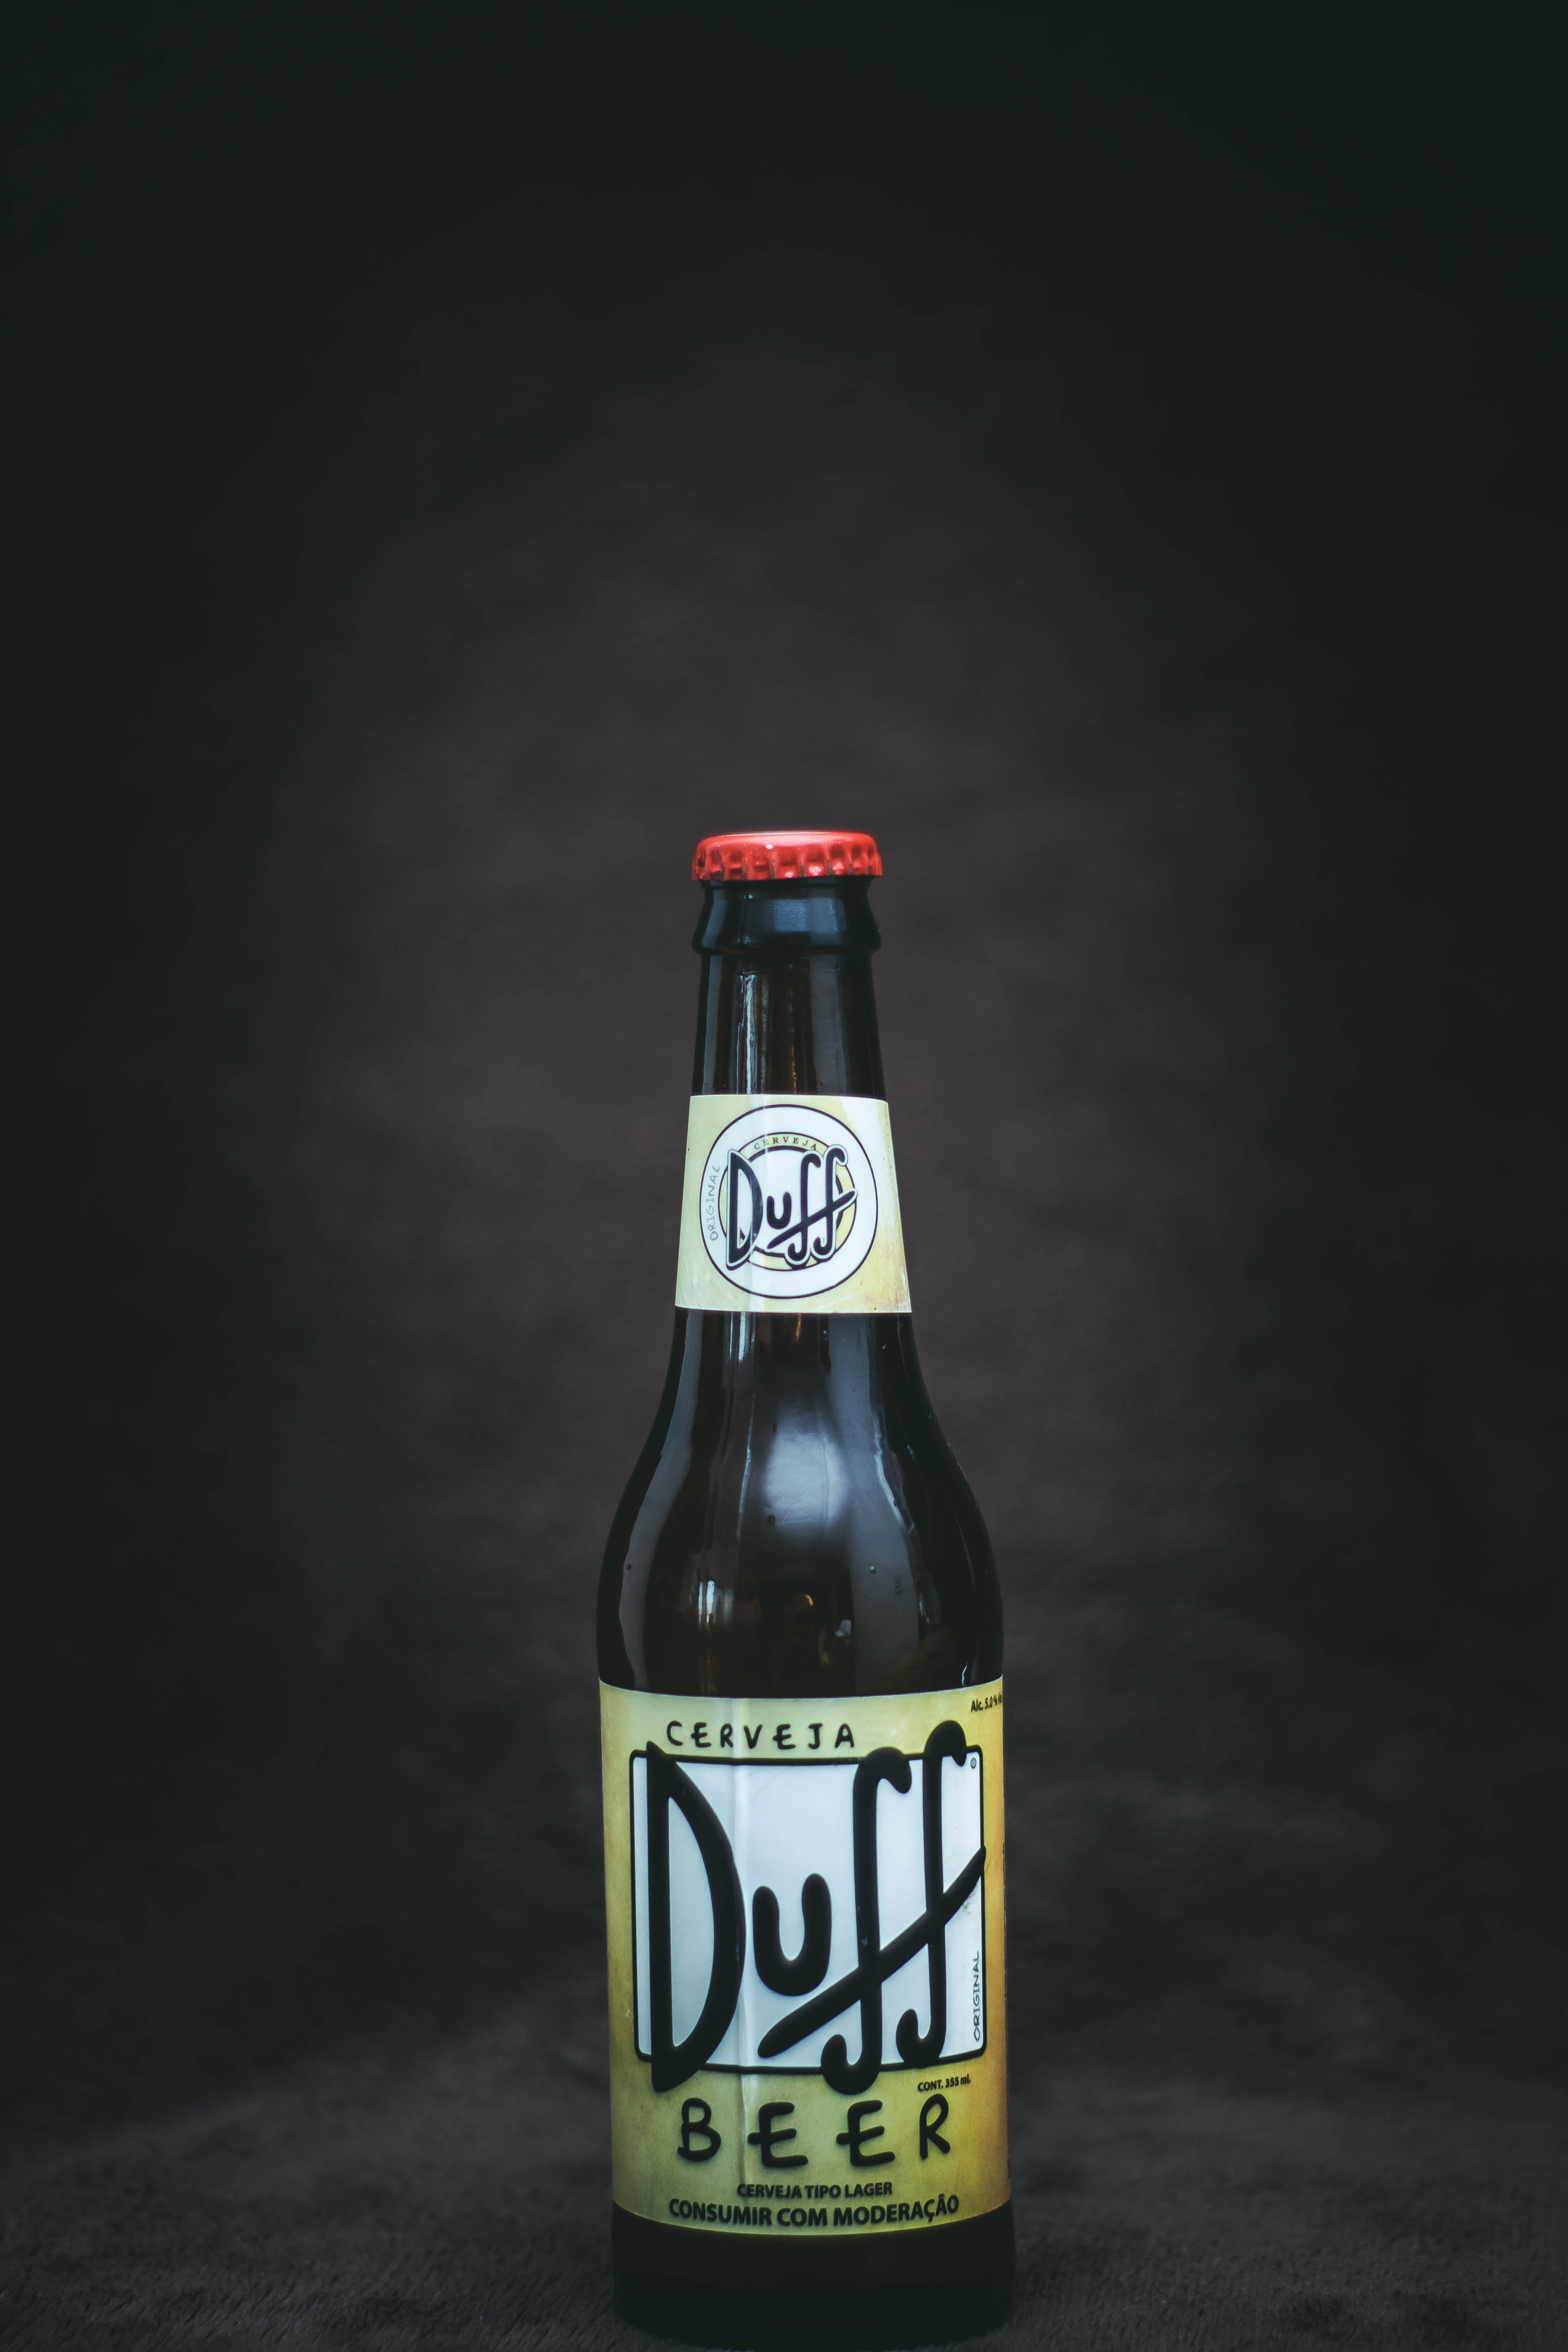glass_bottle: (520, 781, 1099, 2352)
